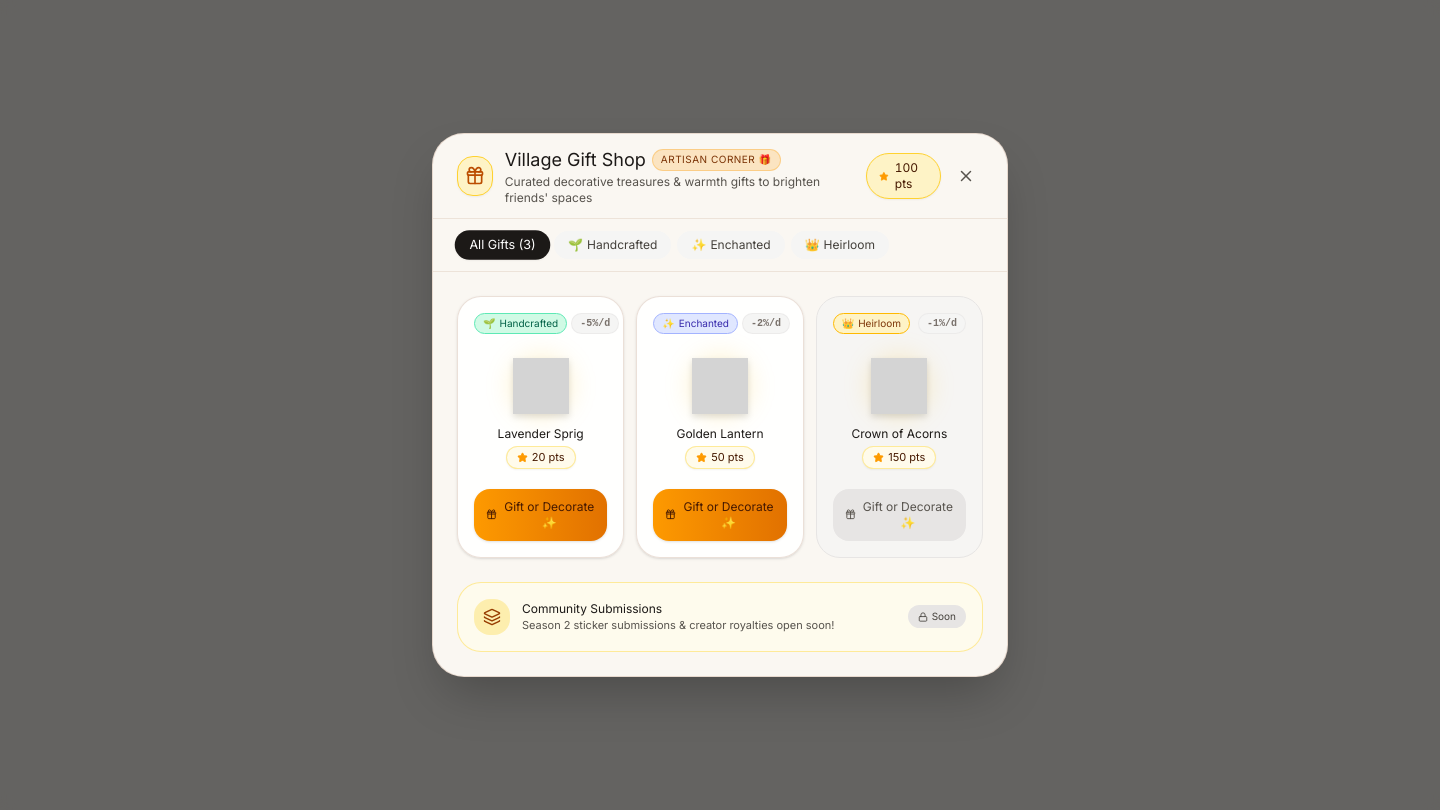
Test case: StickerStoreDrawer Component (Village Gift Shop & Positivity Economy) › filters catalog items by tier tabs
Expected: the heading "Lavender Sprig" is shown, 498,426 -> 584,442
Click "Enchanted" tier tab
Click the button "✨ Enchanted" at {"x": 731, "y": 245}, box 677,231 -> 785,259
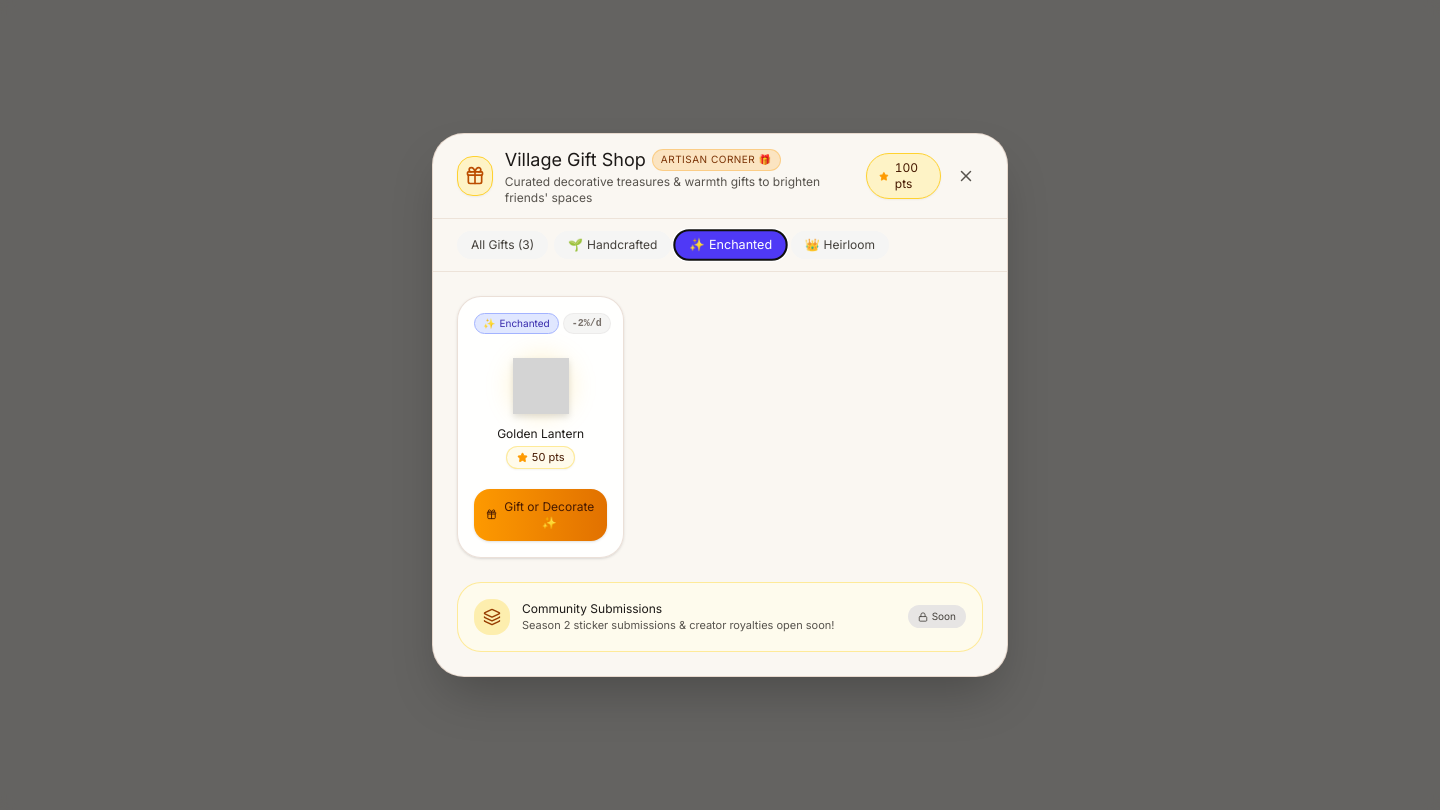
Expected: the heading "Golden Lantern" is shown, 497,426 -> 584,442
Expected: the heading "Lavender Sprig" is gone
Expected: the heading "Crown of Acorns" is gone
